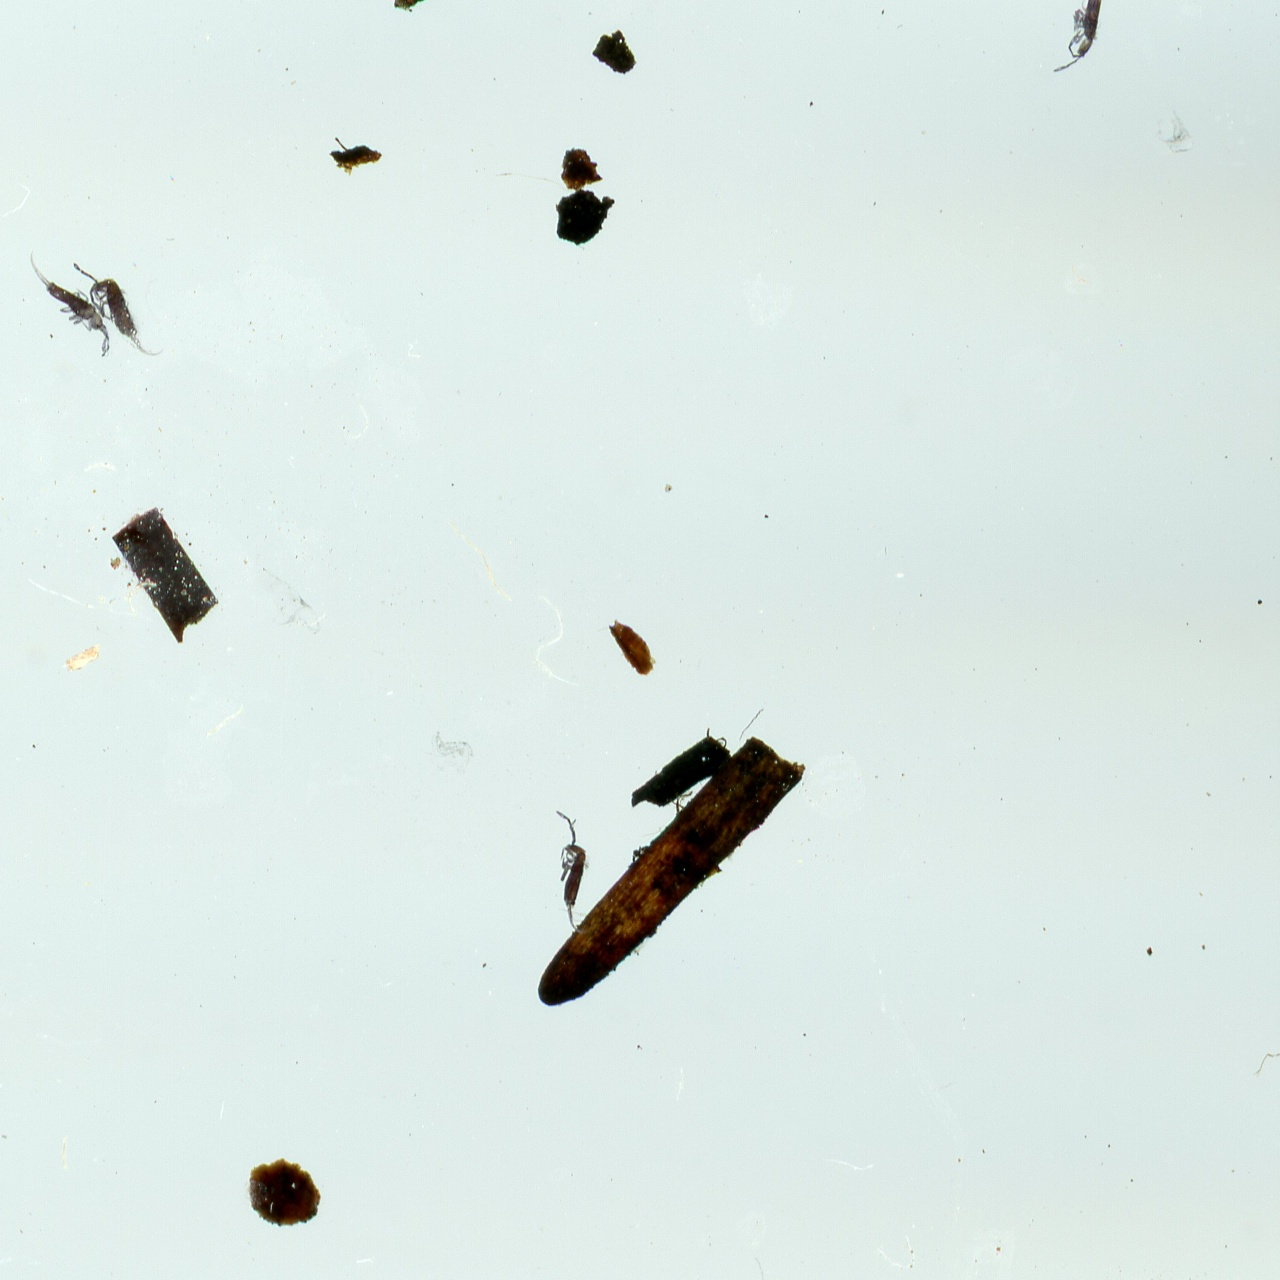arthropod: (9, 225, 127, 376), (66, 240, 175, 380), (546, 797, 597, 933), (1043, 0, 1110, 80)
